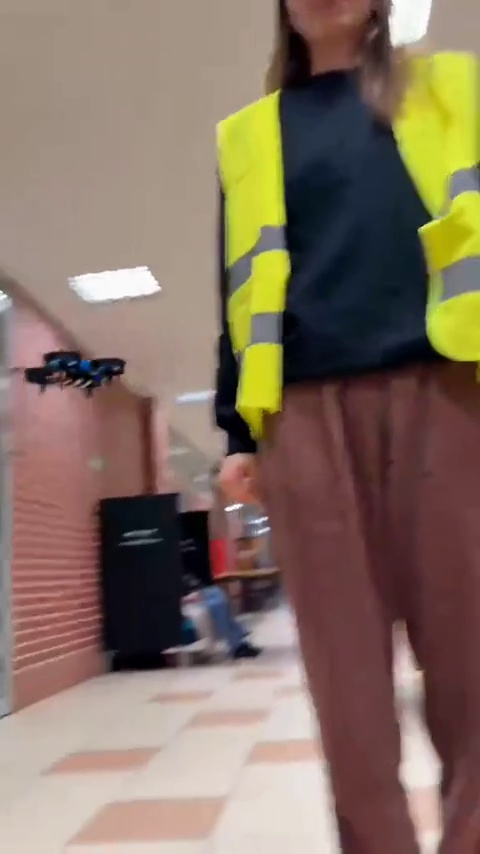drone: (18, 348, 125, 397)
vest: (209, 61, 480, 839)
